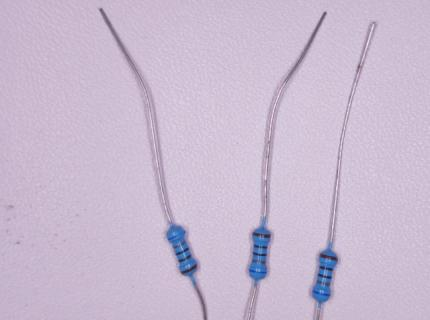Blue band: (167, 231, 186, 241), (312, 290, 331, 296), (249, 268, 267, 274)
Grey band: (173, 240, 186, 249), (316, 279, 330, 286), (252, 259, 266, 264)
